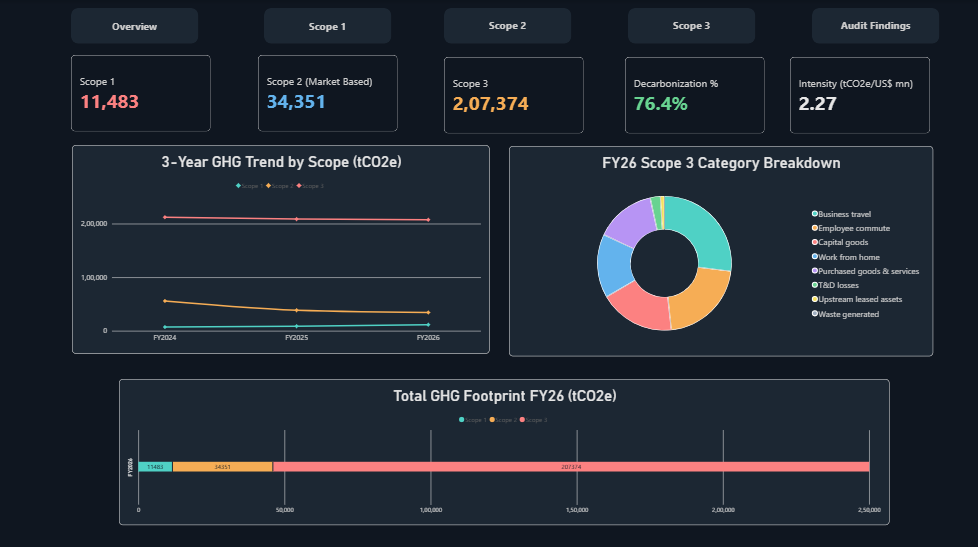

Layout of this report page (visuals, bound fields, positions):
{"tool":"powerbi","page":{"name":"Page 1","canvas":[1920,1080],"ordinal":0},"visuals":[{"type":"cardVisual","fields":{"Data":["Measure.Total Scope 1 (FY26)"]},"box":[140,107.2,274.7,150.3],"z":0,"group":"g1"},{"type":"cardVisual","fields":{"Data":["Measure.Total Scope 2 (FY26)"]},"box":[507.8,107.2,274.7,150.3],"z":1000,"group":"g1"},{"type":"cardVisual","fields":{"Data":["Measure.Total Scope 3 (FY26)"]},"box":[871.7,110.5,274.7,150.3],"z":2000,"group":"g1"},{"type":"group","id":"g1","title":"Group 1","box":[140,107.2,1692.5,924.1],"z":3000},{"type":"cardVisual","fields":{"Data":["Measure.Decarbonization %"]},"box":[1228.3,110.5,274.7,150.3],"z":3000,"group":"g1"},{"type":"actionButton","box":[518.3,15,250,70],"z":4000},{"type":"cardVisual","fields":{"Data":["Measure.Intensity tCO2e per US$mn"]},"box":[1551.7,110.2,275,150],"z":4000,"group":"g1"},{"type":"actionButton","box":[872.5,15,250,70],"z":5000},{"type":"lineChart","title":"3-Year GHG Trend by Scope (tCO2e)","fields":{"Category":["GHG_Trend.Year"],"Series":["GHG_Trend.Scope"],"Y":["Sum(GHG_Trend.Value_tCO2e)"]},"box":[142.5,284.1,820,410],"z":5000,"group":"g1"},{"type":"actionButton","box":[1232.5,15,250,70],"z":6000},{"type":"donutChart","title":"FY26 Scope 3 Category Breakdown","fields":{"Category":["Scope3_Categories.Category"],"Y":["Sum(Scope3_Categories.Value_tCO2e)"]},"box":[1000,286.6,832.5,412.5],"z":6000,"group":"g1"},{"type":"actionButton","box":[1595,15,250,70],"z":7000},{"type":"barChart","title":"Total GHG Footprint FY26 (tCO2e)","fields":{"Series":["GHG_Trend.Scope"],"Y":["Sum(GHG_Trend.Value_tCO2e)"]},"box":[235,744.1,1513.2,287.1],"z":7000,"group":"g1"},{"type":"actionButton","box":[140,15,250,70],"z":8000}]}

Visuals, with their boxes in screenshot pixels (x1, y1, x2, y2), scaled from the page's 1920x1080 canvas onto the 978x547 screenshot:
cardVisual - Measure.Total Scope 1 (FY26): <region>71, 54, 211, 130</region>
cardVisual - Measure.Total Scope 2 (FY26): <region>259, 54, 399, 130</region>
cardVisual - Measure.Total Scope 3 (FY26): <region>444, 56, 584, 132</region>
"Group 1" group: <region>71, 54, 933, 522</region>
cardVisual - Measure.Decarbonization %: <region>626, 56, 766, 132</region>
actionButton: <region>264, 8, 391, 43</region>
cardVisual - Measure.Intensity tCO2e per US$mn: <region>790, 56, 930, 132</region>
actionButton: <region>444, 8, 572, 43</region>
"3-Year GHG Trend by Scope (tCO2e)" lineChart: <region>73, 144, 490, 352</region>
actionButton: <region>628, 8, 755, 43</region>
"FY26 Scope 3 Category Breakdown" donutChart: <region>509, 145, 933, 354</region>
actionButton: <region>812, 8, 940, 43</region>
"Total GHG Footprint FY26 (tCO2e)" barChart: <region>120, 377, 890, 522</region>
actionButton: <region>71, 8, 199, 43</region>
